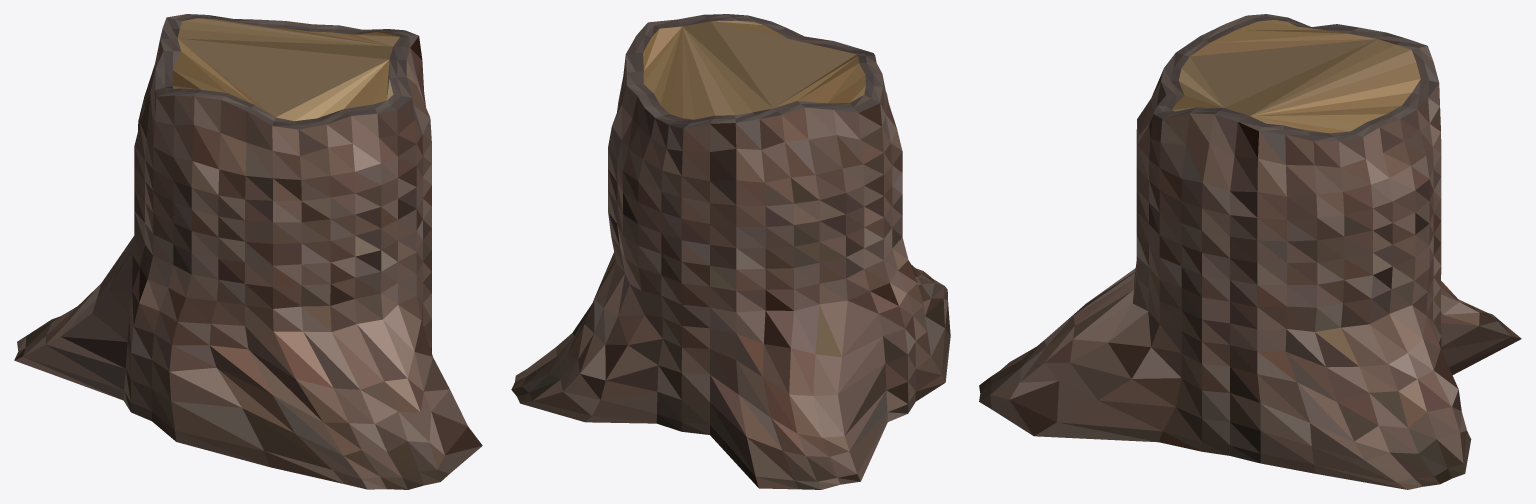
The model's file is r32_stumpf_5.glb.
3 renders of one model, left to right at view 1: azimuth 30°, elevation 25°; view 2: azimuth 150°, elevation 25°; view 3: azimuth 270°, elevation 25°, orthographic. The views are drawn at different scales.
Visible parts, largest first — view 1: stumpf; view 2: stumpf; view 3: stumpf.
Part boxes in pixels (x1,y1,x2,y2): stumpf: (14, 14, 482, 489); stumpf: (511, 14, 950, 489); stumpf: (979, 14, 1521, 489).
Size of the model in its own units: 1.22 by 1 by 1.5.
